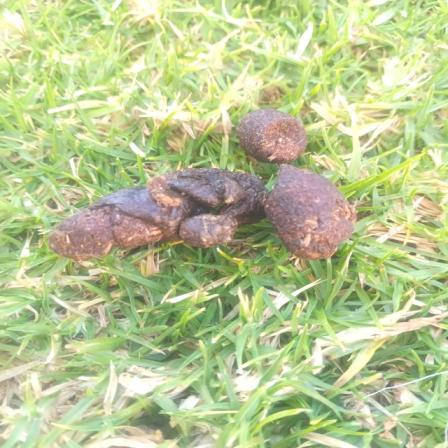dog-poop: (48, 102, 367, 274)
